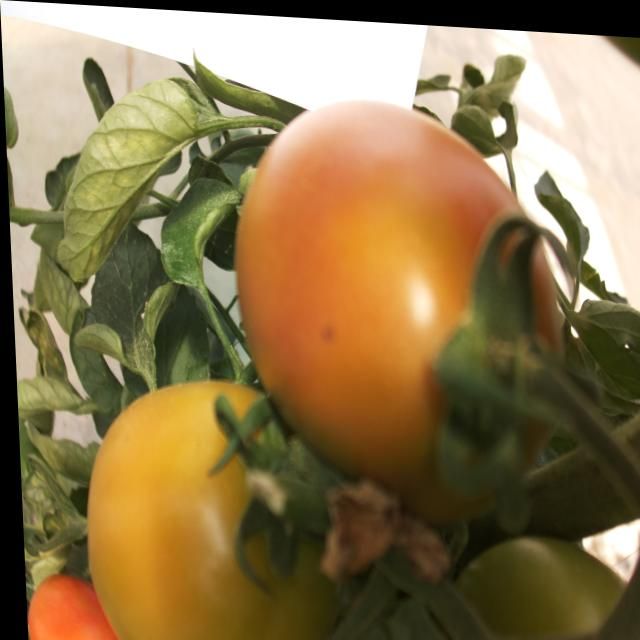yesil: (212, 84, 575, 443)
